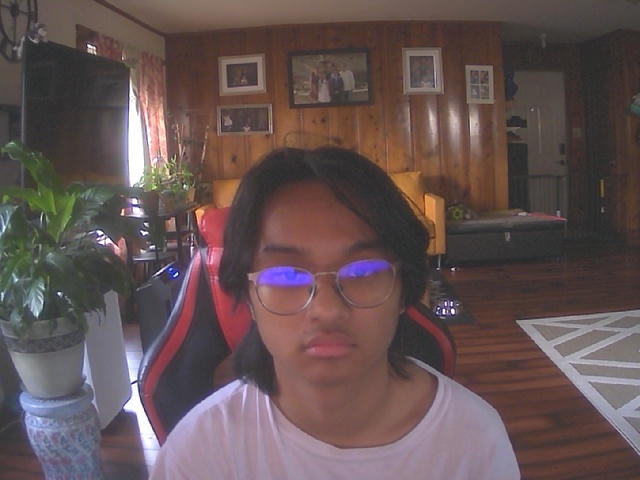neutral: (237, 156, 420, 391)
